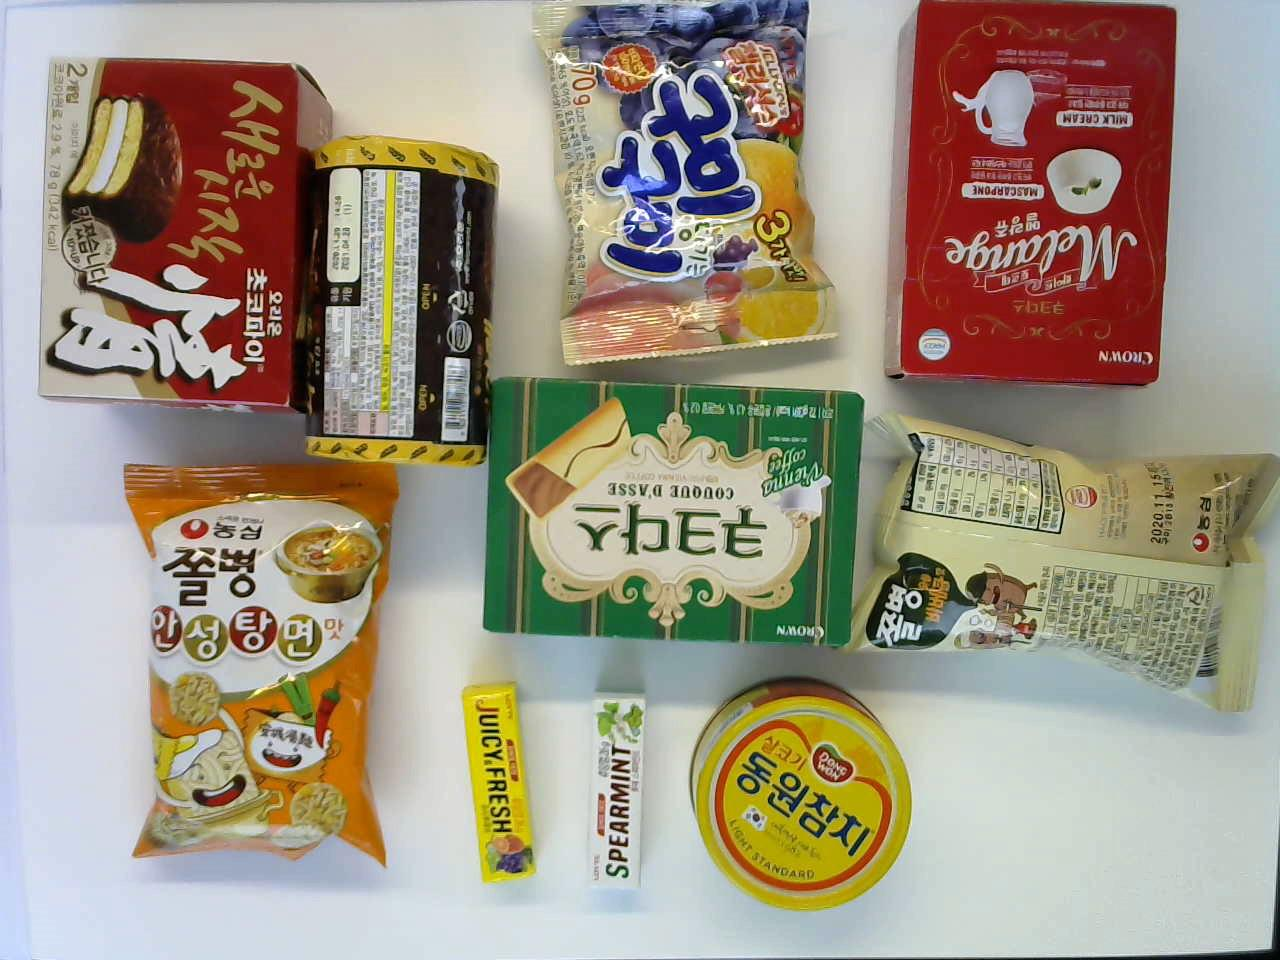chocopie: (35, 54, 330, 413)
couque_coffee: (469, 371, 872, 658)
couque_white: (885, 4, 1175, 388)
diget_choco: (298, 132, 501, 467)
gumi_gumi: (532, 7, 843, 362)
jjolbyung_noodle: (121, 463, 412, 861)
jjolbyung_ori: (837, 412, 1278, 707)
juicyfresh: (457, 677, 542, 886)
spearmint: (587, 683, 653, 894)
tuna: (683, 676, 915, 913)
